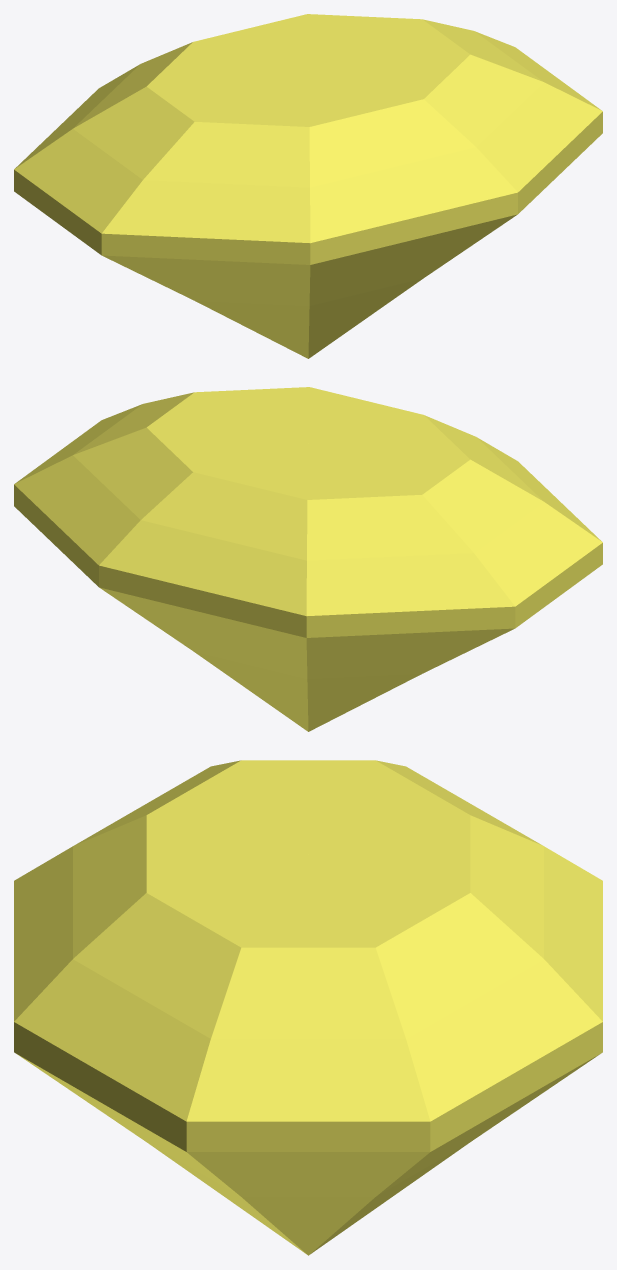
The model's file is heliodor-glass.glb.
The picture shows the model from 3 angles, top to bottom: view 1: azimuth 30°, elevation 25°; view 2: azimuth 150°, elevation 25°; view 3: azimuth 270°, elevation 25°; orthographic projection. The views are drawn at different scales.
Parts seen in each view (by area): view 1: Heliodor; view 2: Heliodor; view 3: Heliodor.
Boxes of the visible parts, x1,y1,x2,y2 form: Heliodor: [14, 14, 602, 358]; Heliodor: [14, 387, 602, 731]; Heliodor: [14, 760, 602, 1255].
Bounding box in the file's own units: 2.4 × 1.32 × 1.76.
